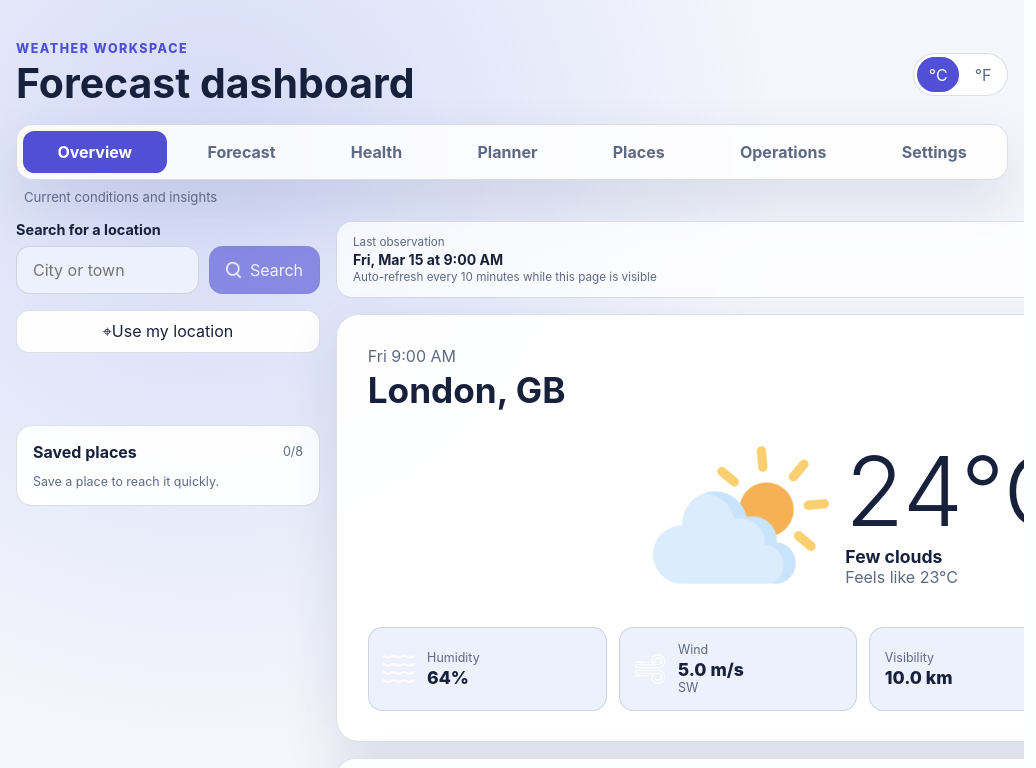
loads a searched location through the dashboard client
Type " Paris " into the search field labelled "Search for a location" at (107, 270), box x1=16 y1=246 x2=198 y2=294
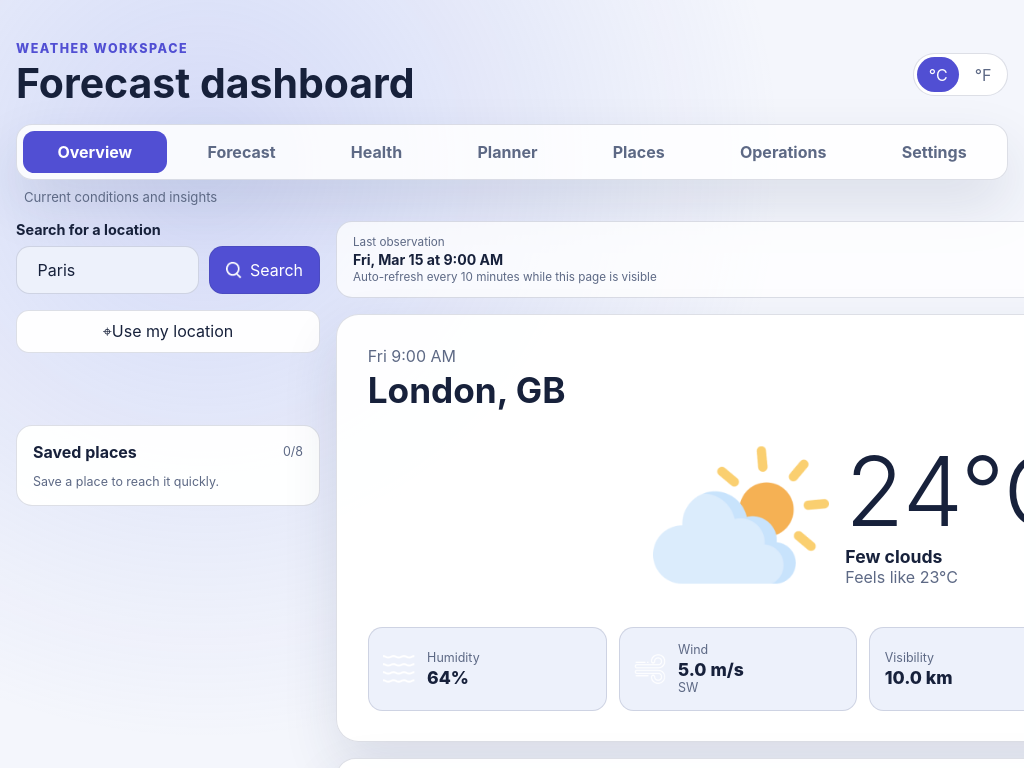
Click the button "Search" at (264, 270), box x1=209 y1=246 x2=320 y2=294
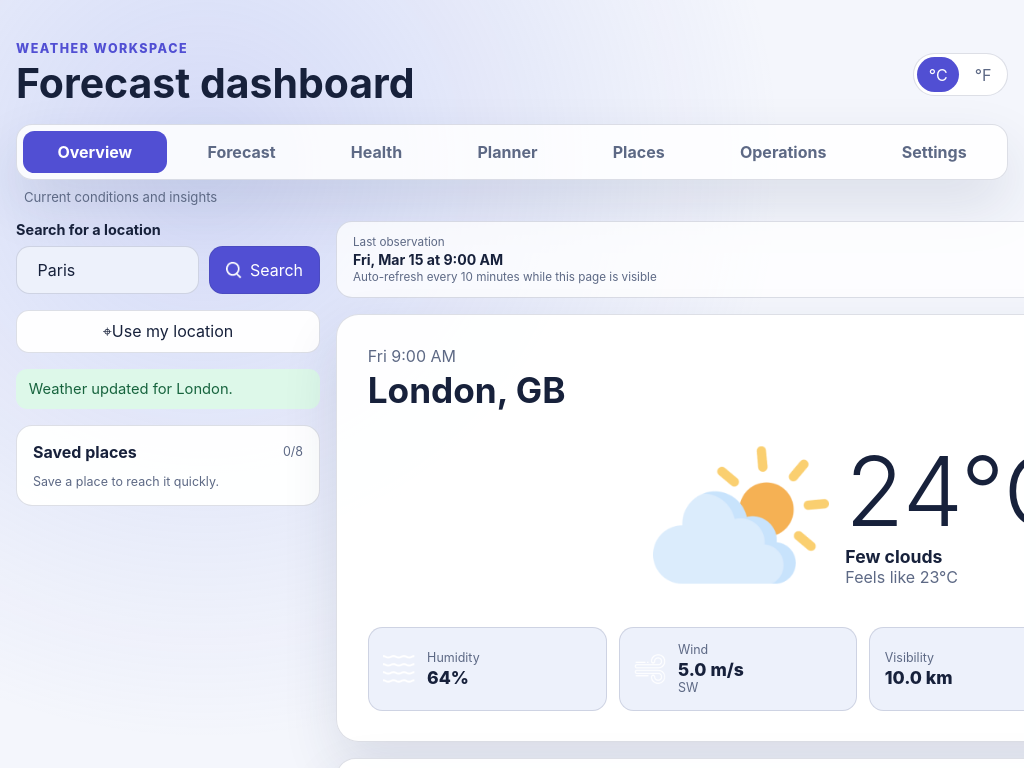
Now the message reads "Weather updated for London.", box x1=29 y1=380 x2=233 y2=398
